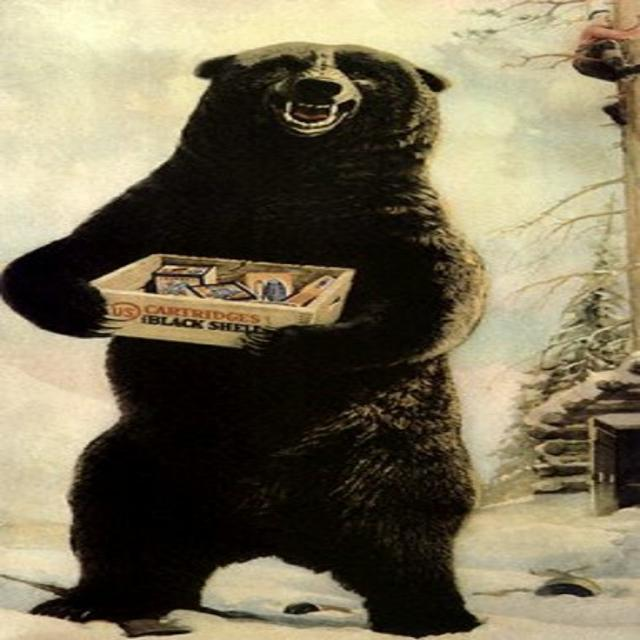Box: (87, 254, 358, 348)
